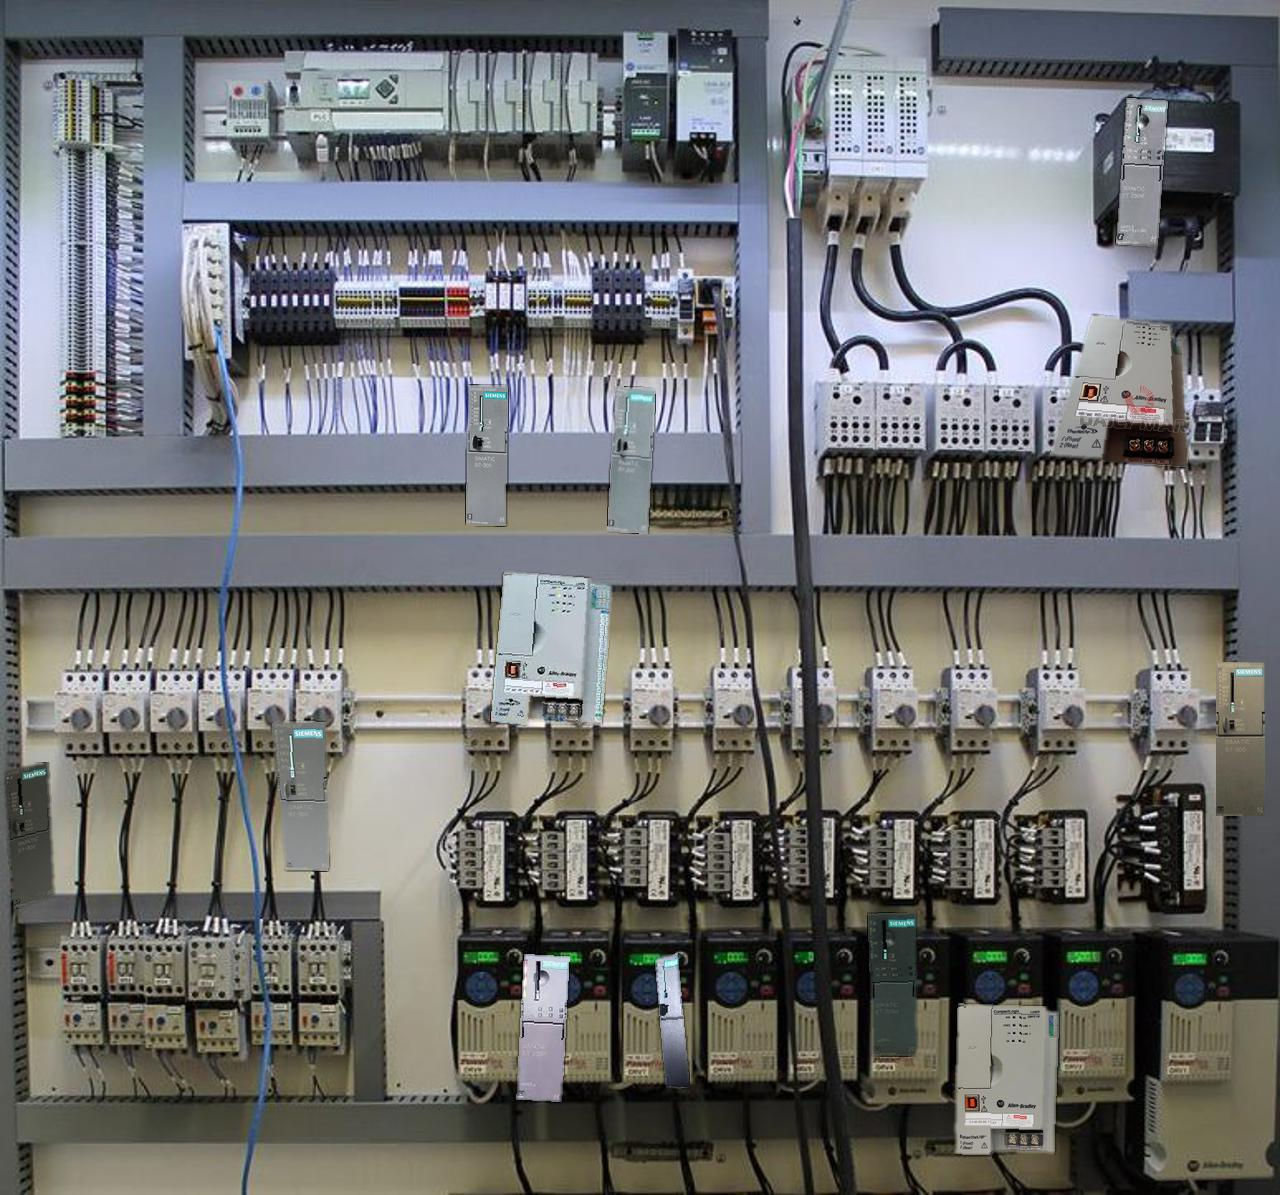AllenBradley: (1050, 314, 1187, 466), (491, 573, 611, 724), (956, 1004, 1058, 1153)
Siemens: (272, 721, 328, 870), (1216, 662, 1264, 815), (4, 761, 53, 907), (607, 386, 655, 533), (466, 385, 508, 524), (656, 954, 689, 1087)
